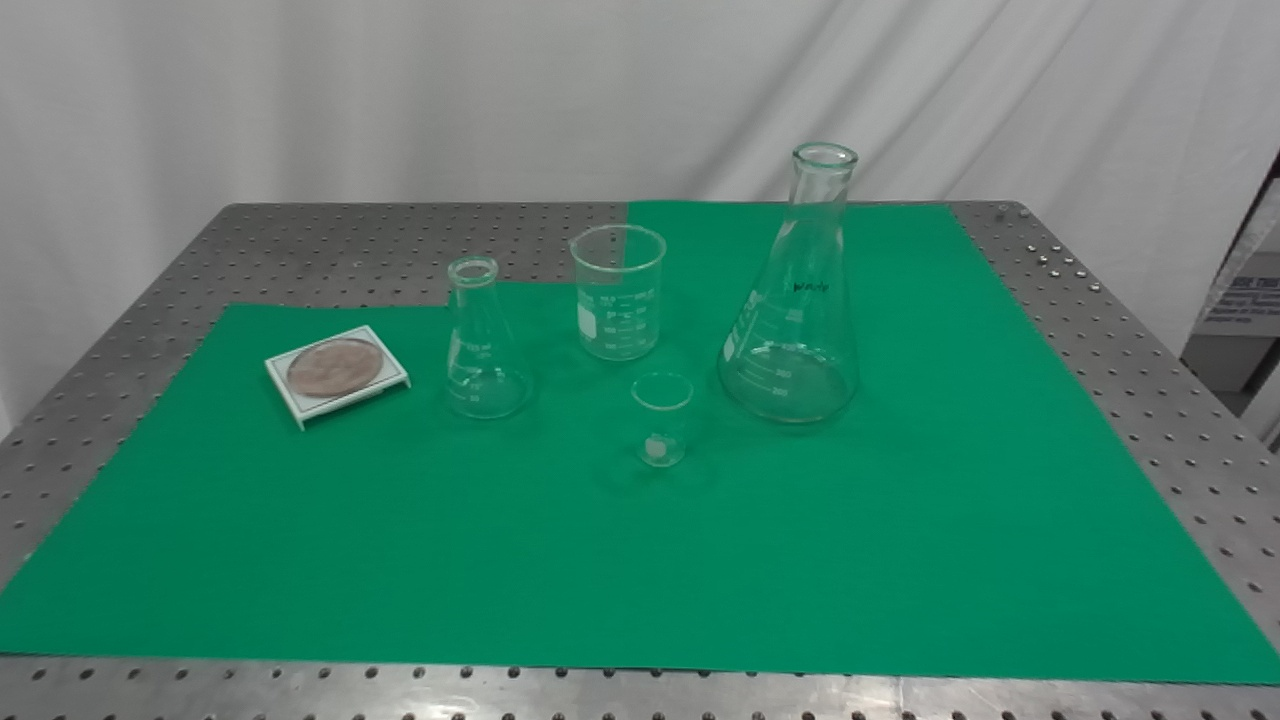glass: (714, 138, 866, 429), (436, 254, 537, 426), (564, 220, 667, 365), (627, 369, 696, 472)
plate: (259, 321, 415, 434)
